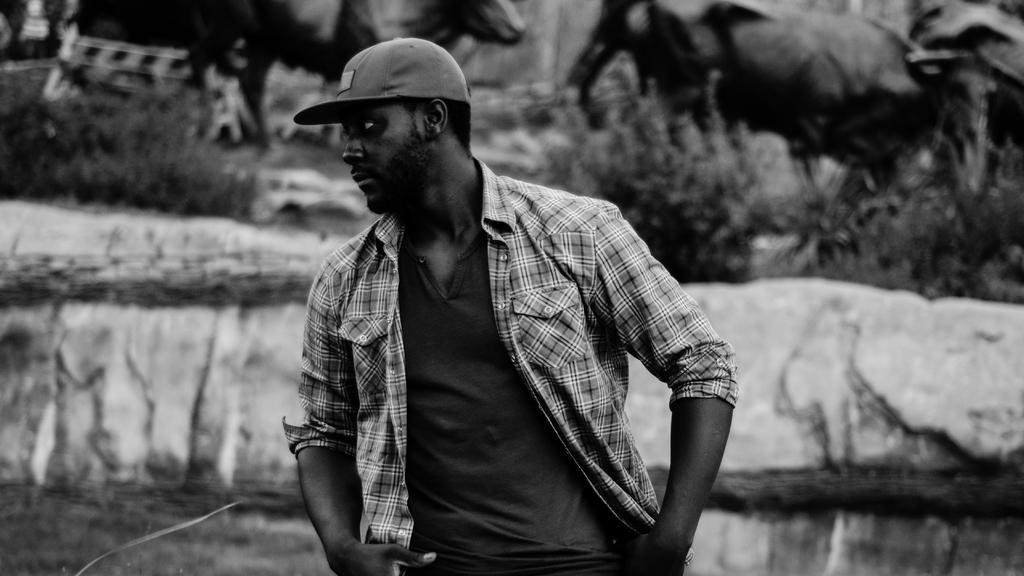Hat: (296, 38, 470, 126)
